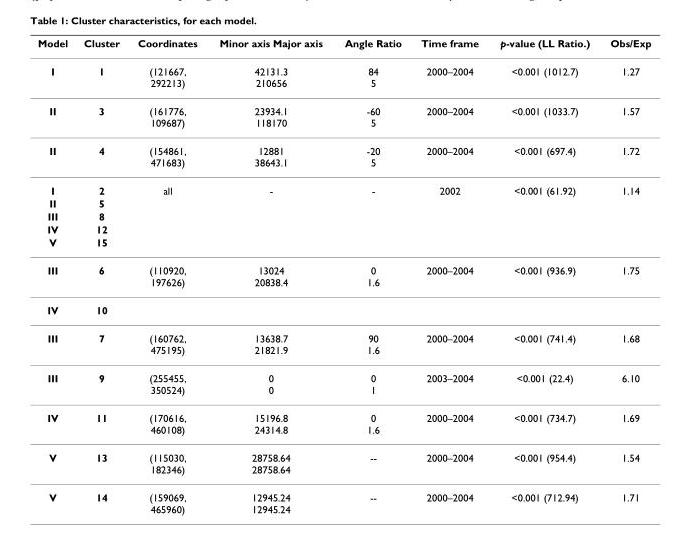table: (37, 36, 650, 514)
table column: (207, 36, 332, 514), (488, 36, 599, 514), (127, 36, 207, 514), (332, 36, 410, 514), (410, 36, 488, 514), (74, 36, 127, 514), (599, 36, 650, 514), (37, 36, 74, 514)
table column header: (37, 36, 650, 56)
table row: (37, 56, 650, 96), (37, 96, 650, 136), (37, 136, 650, 176), (37, 255, 650, 295), (37, 323, 650, 363), (37, 363, 650, 403), (37, 403, 650, 443), (37, 443, 650, 482), (37, 482, 650, 514), (37, 295, 650, 323), (37, 36, 650, 56), (37, 176, 650, 196), (37, 235, 650, 255), (37, 196, 650, 209), (37, 209, 650, 222), (37, 222, 650, 235)
